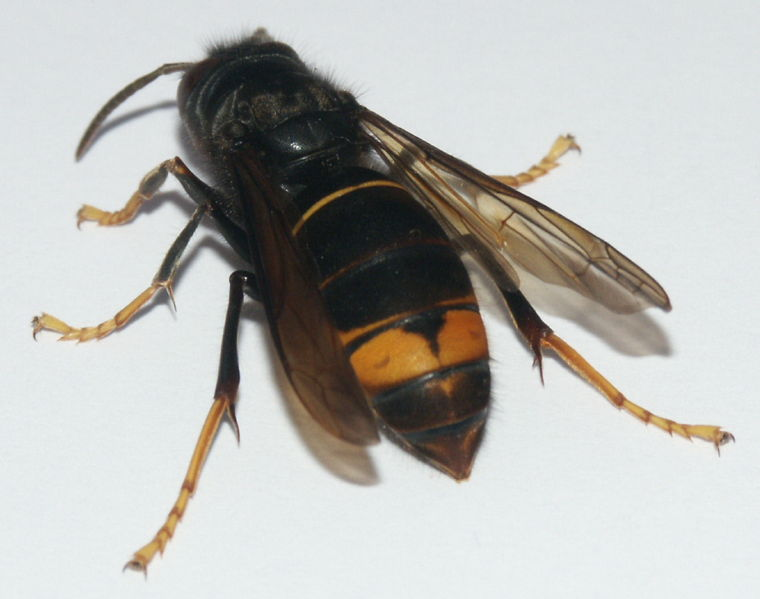hornet: (46, 30, 672, 558)
